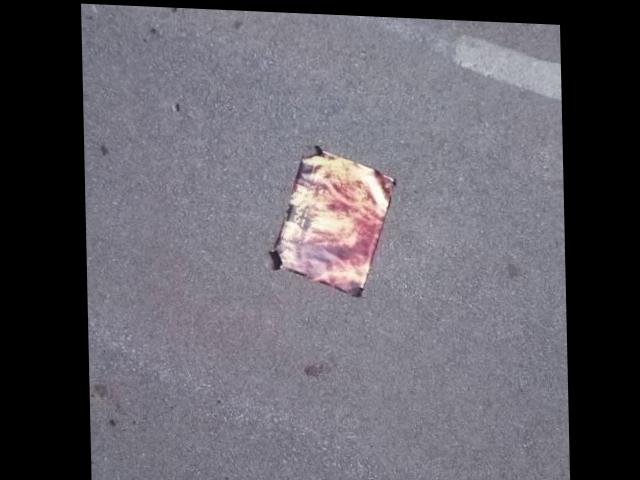fire-poster: (260, 140, 398, 299)
